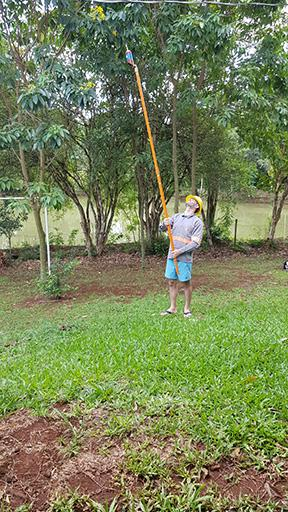Detector_Tensao_Contato: (124, 42, 137, 71)
Vara_Manobra: (132, 65, 180, 280)
